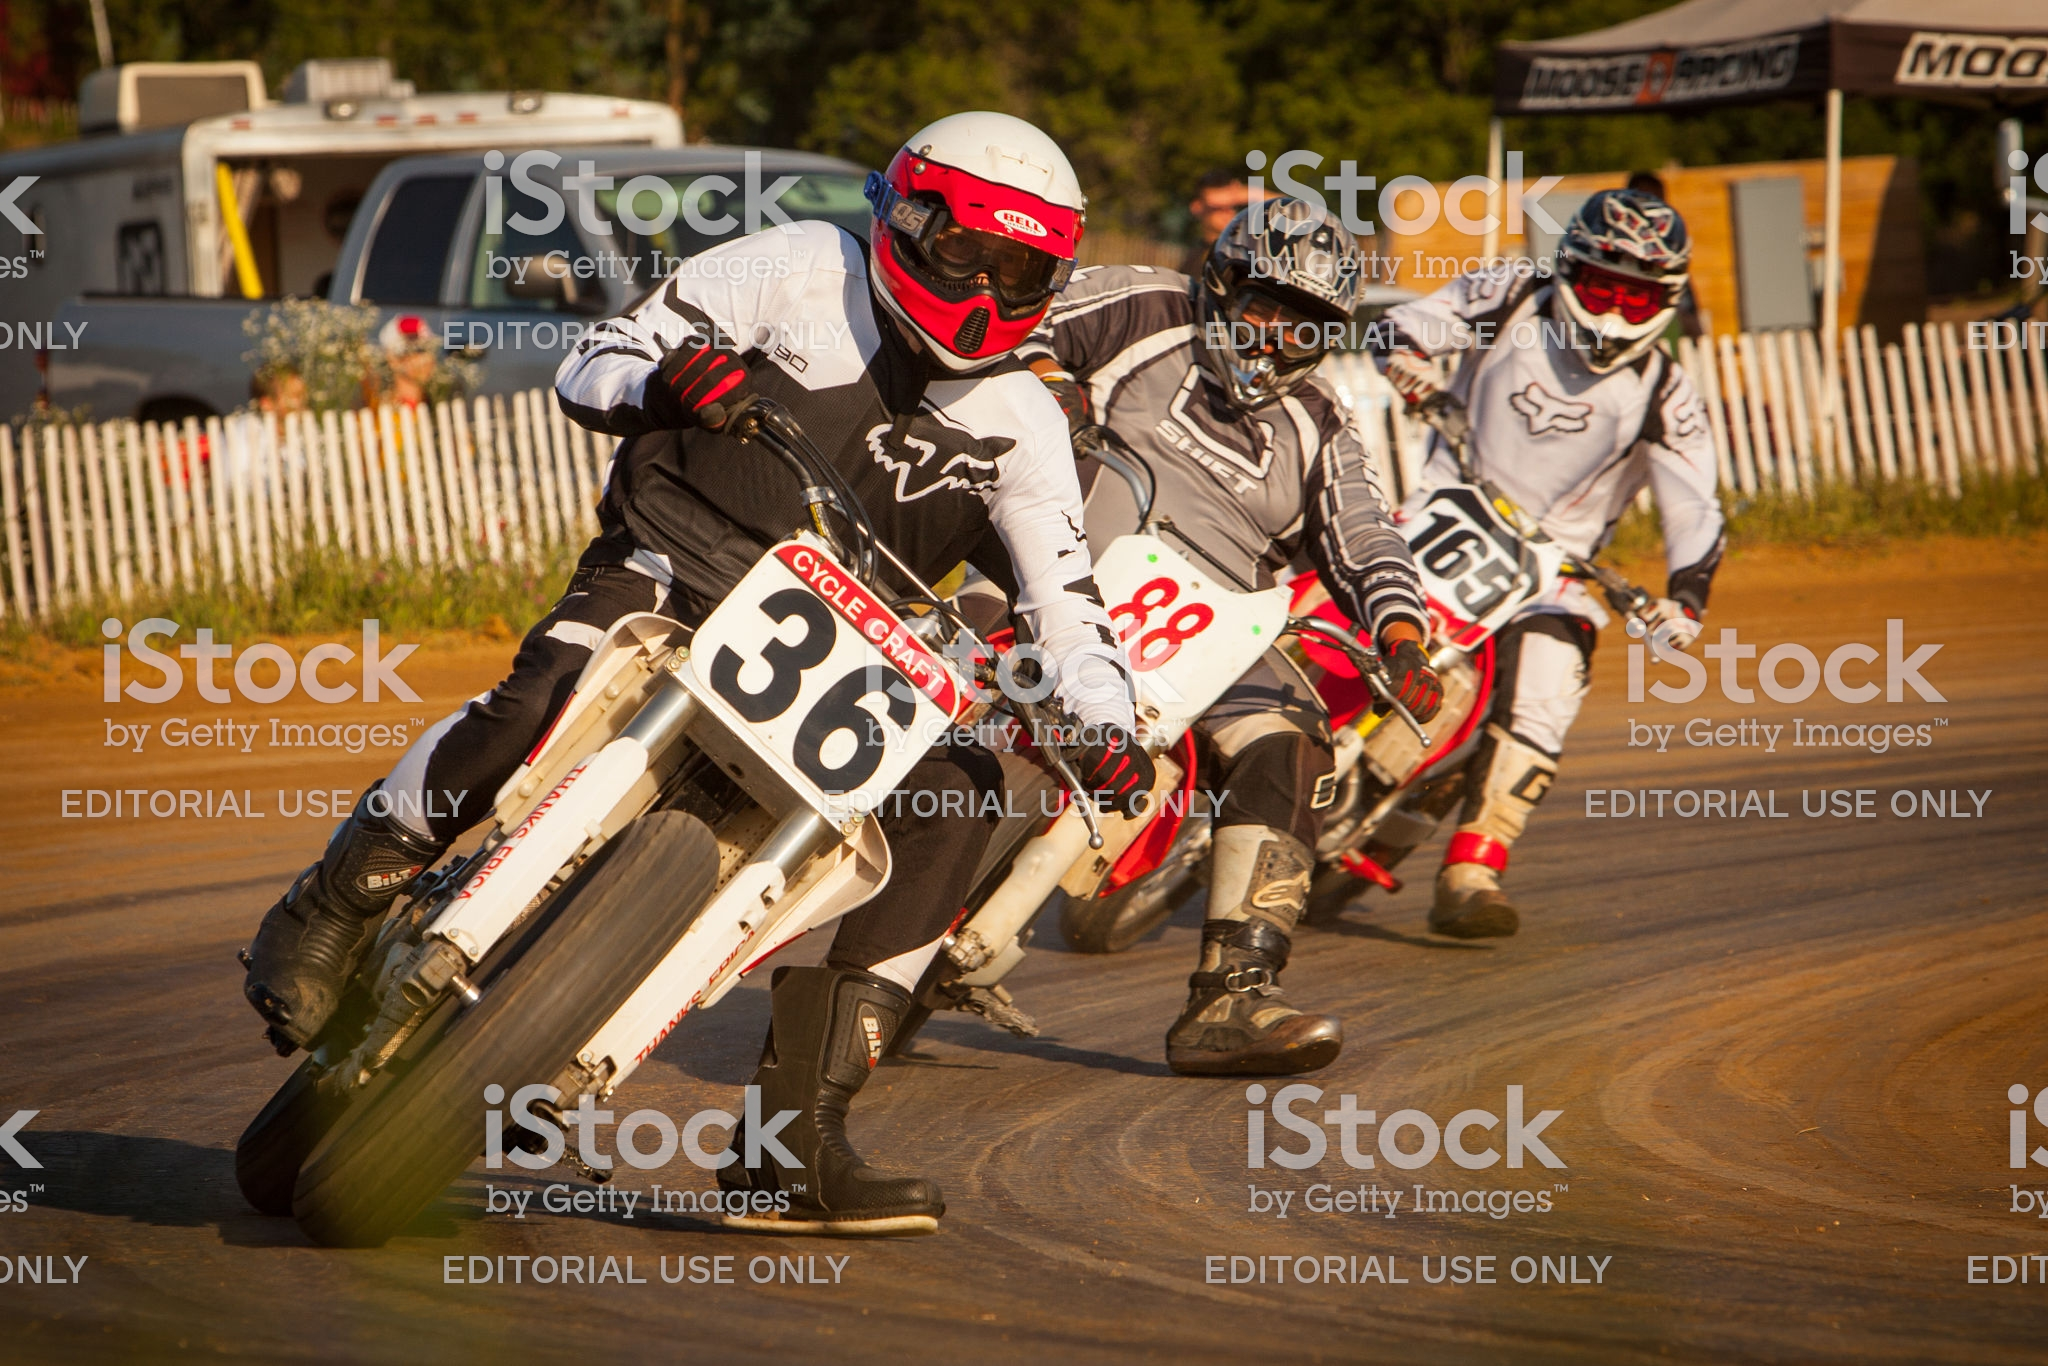helmet: (862, 88, 1065, 427), (1196, 171, 1342, 393), (1531, 154, 1678, 369)
